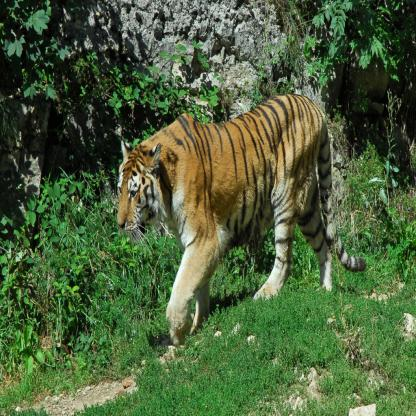Tiger: (115, 91, 367, 346)
